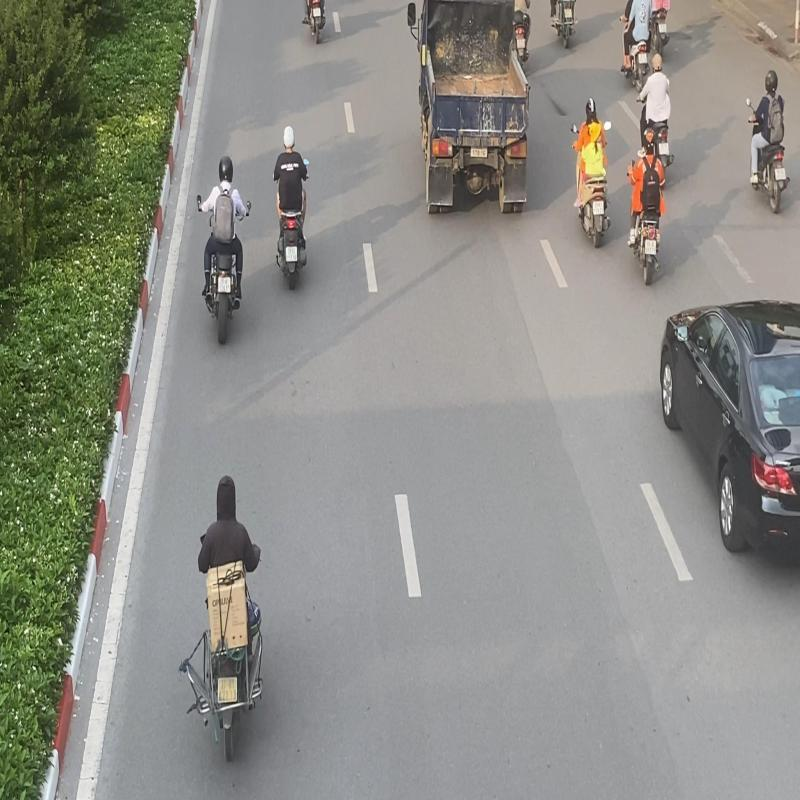helmet: (219, 155, 233, 184)
licenseplate: (218, 274, 231, 294)
motorcyclist: (196, 154, 253, 347)
